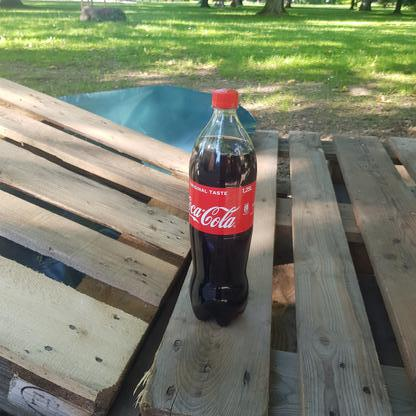coca-cola: (187, 86, 259, 329)
